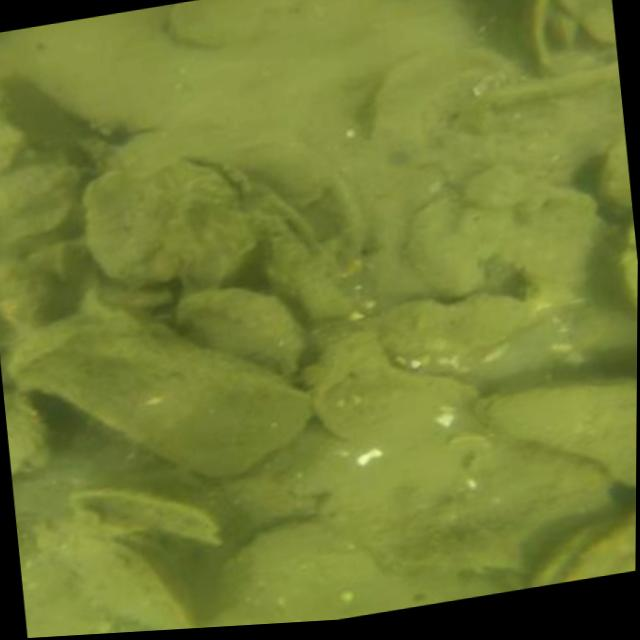Oyster-Closed: (86, 153, 253, 285)
Oyster-Indeterminate: (13, 329, 313, 481), (227, 134, 371, 284), (310, 336, 474, 444), (475, 379, 637, 487), (371, 285, 585, 354), (179, 287, 307, 378), (525, 0, 617, 71), (0, 169, 80, 248), (4, 387, 55, 474), (603, 145, 632, 206), (550, 12, 579, 44)
Oyster-Open: (78, 511, 198, 630), (67, 470, 228, 547)
